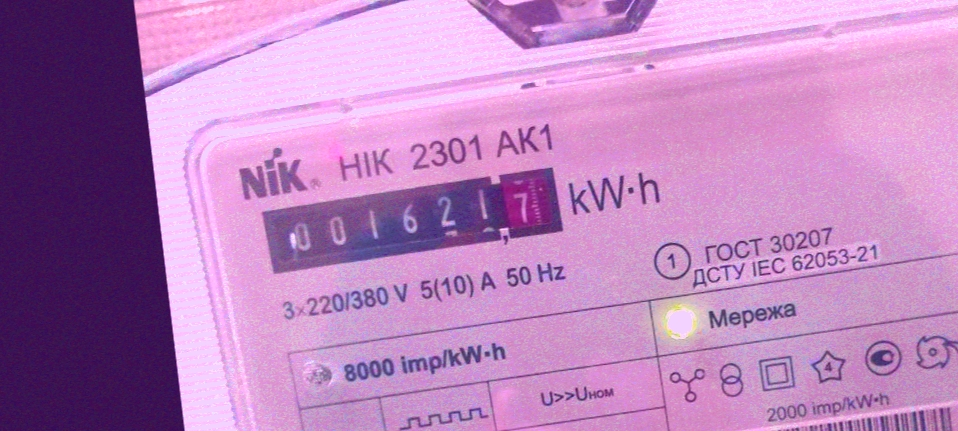0: (326, 207, 352, 247), (291, 214, 315, 250)
1: (475, 181, 493, 219), (365, 202, 383, 239)
2: (435, 189, 460, 227)
6: (399, 197, 422, 233)
7: (510, 185, 535, 223)
screen: (257, 160, 572, 277)
